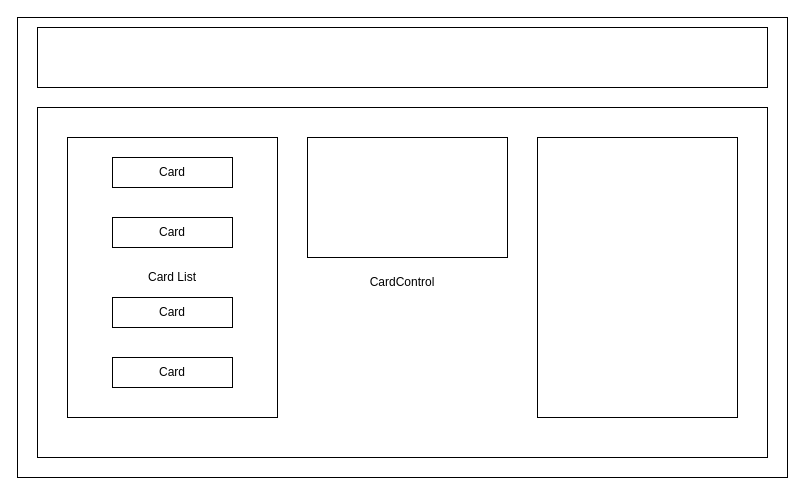
This 805x495 diagram has some shape labels left out. The shapes that lost their labels are listed below. From the top down, each one's box as (x1, y1, x2, y2) in pixels, then its label:
(36, 26, 768, 88): Header
(306, 136, 508, 258): Card Form
(536, 136, 738, 418): Card Details
